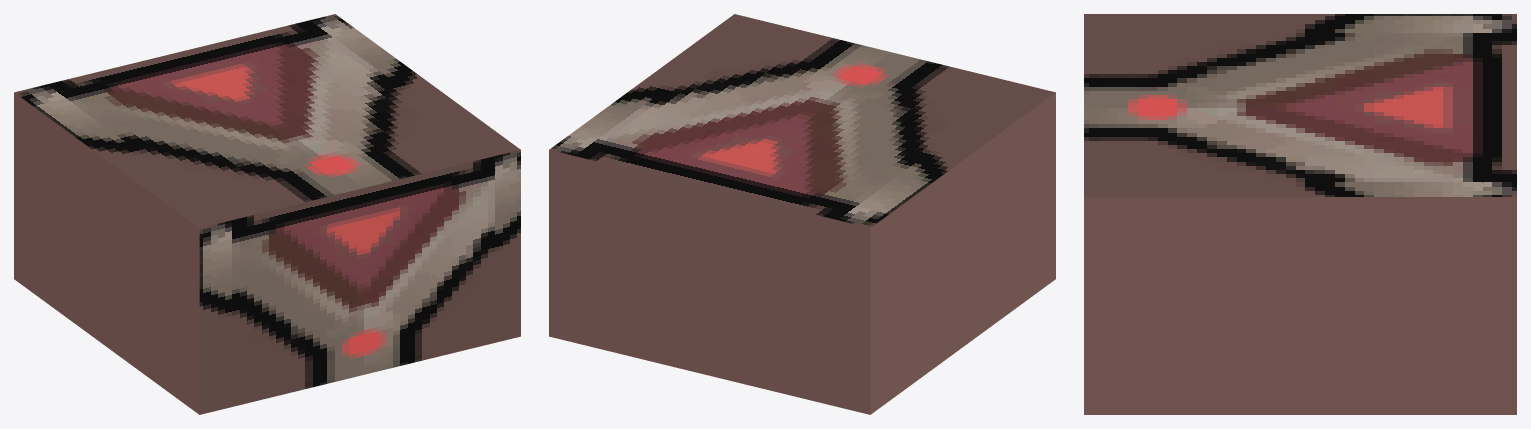
File: Building_HunterDroneTrap.glb
The picture shows the model from 3 angles, left to right: view 1: azimuth 30°, elevation 25°; view 2: azimuth 150°, elevation 25°; view 3: azimuth 270°, elevation 25°; orthographic projection. The views are drawn at different scales.
Visible parts, largest first — view 1: HunterDroneTrap; view 2: HunterDroneTrap; view 3: HunterDroneTrap.
Part boxes in pixels (bbox=[...]): HunterDroneTrap: bbox=[14, 14, 520, 414]; HunterDroneTrap: bbox=[549, 14, 1055, 414]; HunterDroneTrap: bbox=[1084, 14, 1516, 414].
Bounding box in the file's own units: 0.9 × 0.5 × 0.9.
1 material, 1 textured.
